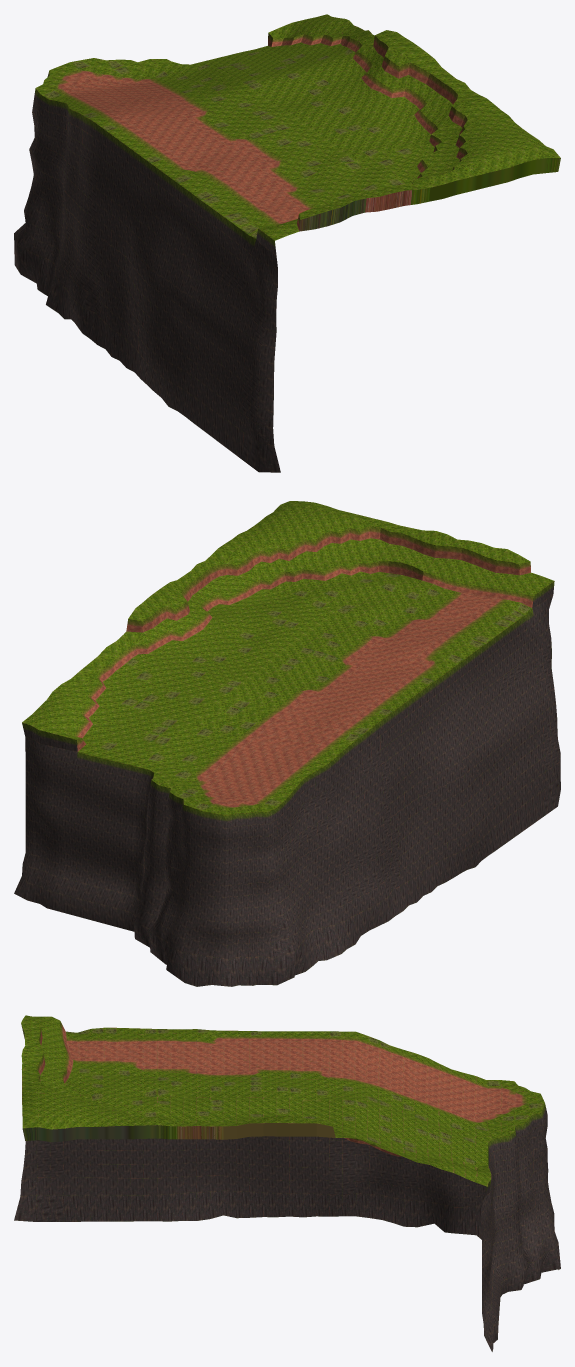
File: Island1_01.fbx
3 renders of one model, top to bottom at view 1: azimuth 30°, elevation 25°; view 2: azimuth 150°, elevation 25°; view 3: azimuth 270°, elevation 25°, orthographic. The views are drawn at different scales.
Visible parts, largest first — view 1: Box001; view 2: Box001; view 3: Box001.
Boxes of the visible parts, x1,y1,x2,y2 form: Box001: (14,14,560,472); Box001: (14,501,560,986); Box001: (14,1015,560,1351).
Bounding box in the file's own units: 5197 × 3933 × 8267.
